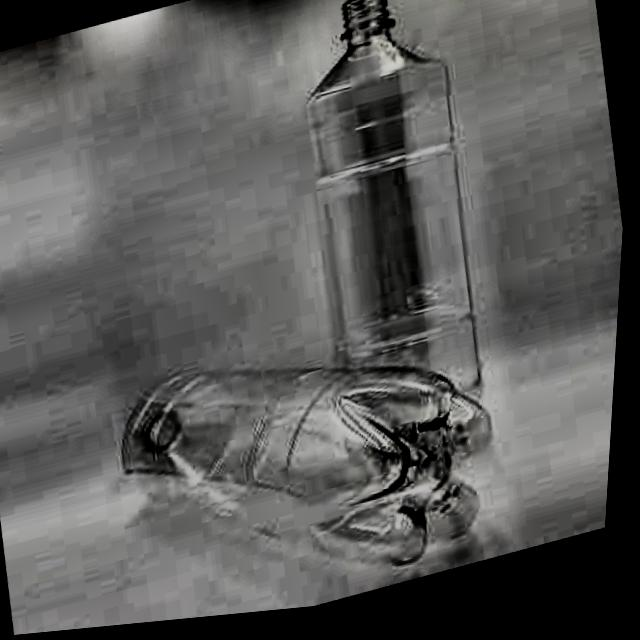Bottles: (266, 0, 523, 381), (121, 342, 517, 574)
